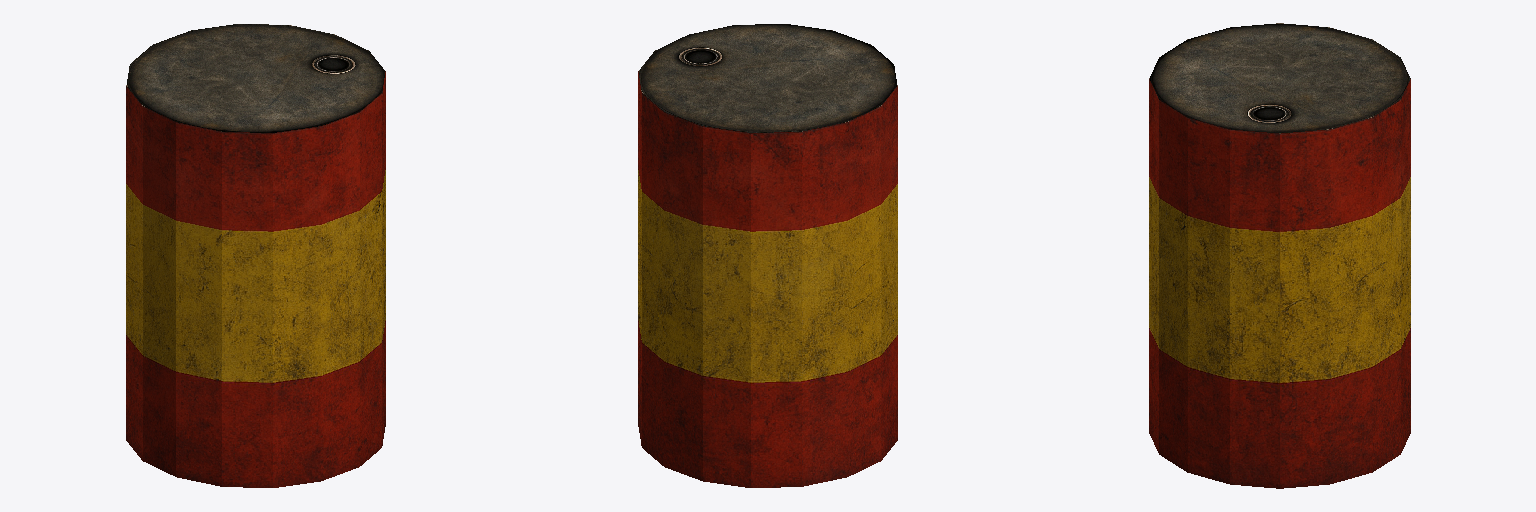
The picture shows the model from 3 angles: view 1: azimuth 30°, elevation 25°; view 2: azimuth 150°, elevation 25°; view 3: azimuth 270°, elevation 25°; orthographic projection.
Parts seen in each view (by area): view 1: TestOilBarrel; view 2: TestOilBarrel; view 3: TestOilBarrel.
Part boxes in pixels (left/top/right/bottom): TestOilBarrel: left=126, top=24, right=385, bottom=487; TestOilBarrel: left=638, top=24, right=897, bottom=487; TestOilBarrel: left=1149, top=23, right=1410, bottom=488.
Size of the model in its own units: 2 by 3 by 2.
1 materials, 1 textured.